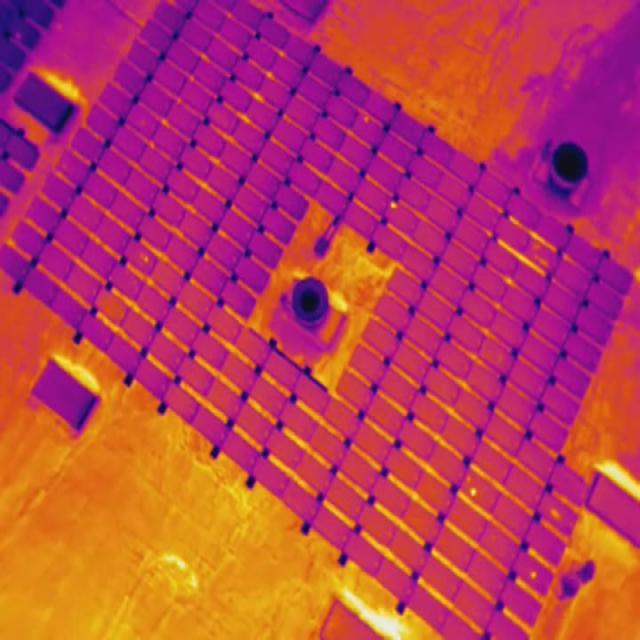Orange-Spots: (550, 508, 560, 520), (141, 252, 148, 263), (539, 258, 548, 266), (470, 488, 477, 497), (390, 201, 397, 208), (533, 242, 539, 250), (531, 571, 536, 580), (364, 116, 369, 123), (467, 475, 471, 482), (535, 254, 539, 259)
